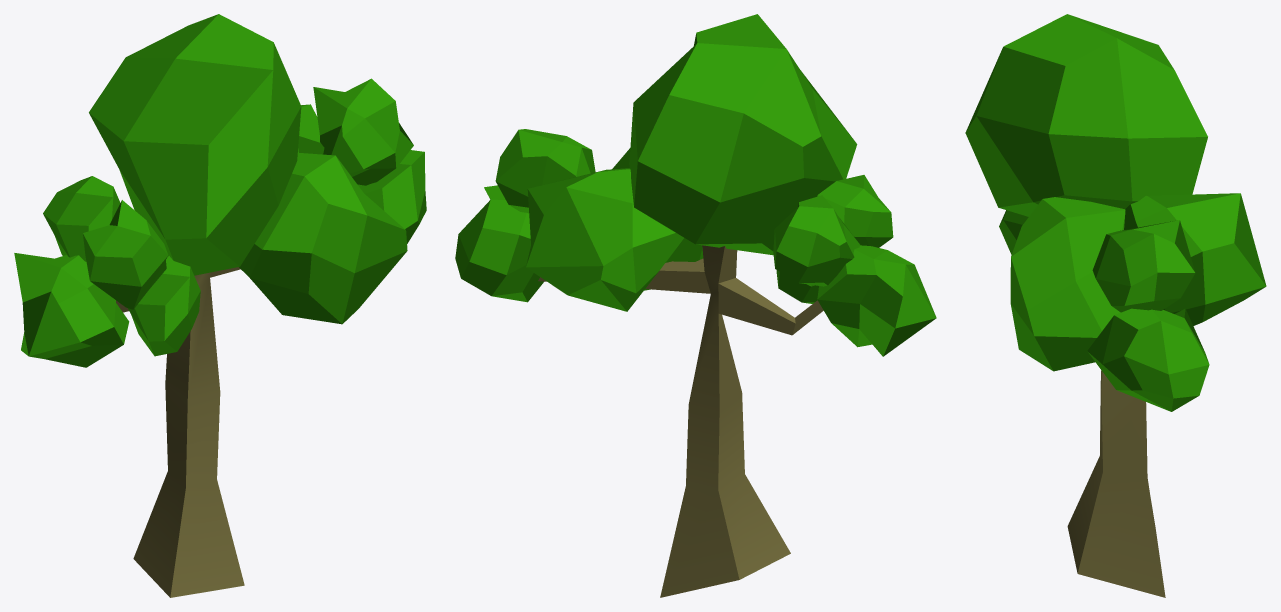
Rendered from A_BigTree 1.fbx.
The picture shows the model from 3 angles, left to right: view 1: azimuth 30°, elevation 25°; view 2: azimuth 150°, elevation 25°; view 3: azimuth 270°, elevation 25°; orthographic projection. The views are drawn at different scales.
Visible parts, largest first — view 1: Box004; view 2: Box004; view 3: Box004.
Part boxes in pixels (bbox=[...]): Box004: bbox=[14, 14, 426, 597]; Box004: bbox=[455, 14, 936, 597]; Box004: bbox=[965, 14, 1266, 597].
Size of the model in its own units: 85.1 by 104 by 51.31.
